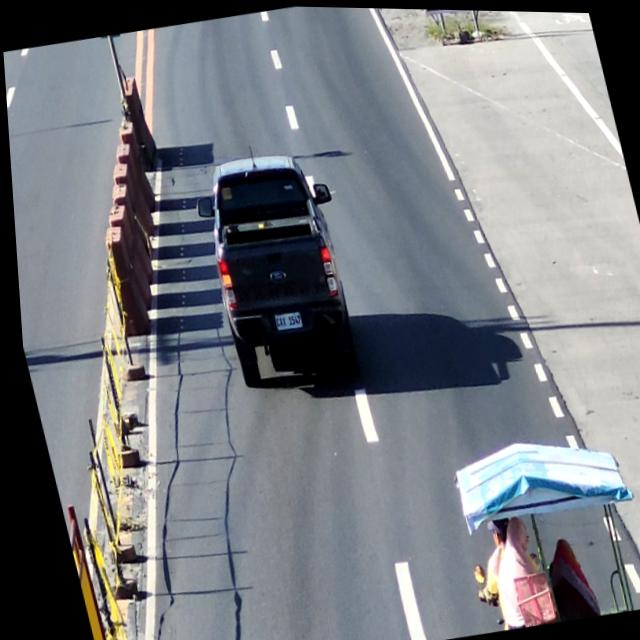Car: (178, 132, 383, 422), (167, 631, 311, 640)
License-Plate: (264, 305, 303, 338)
Tricycle: (436, 425, 640, 634)
